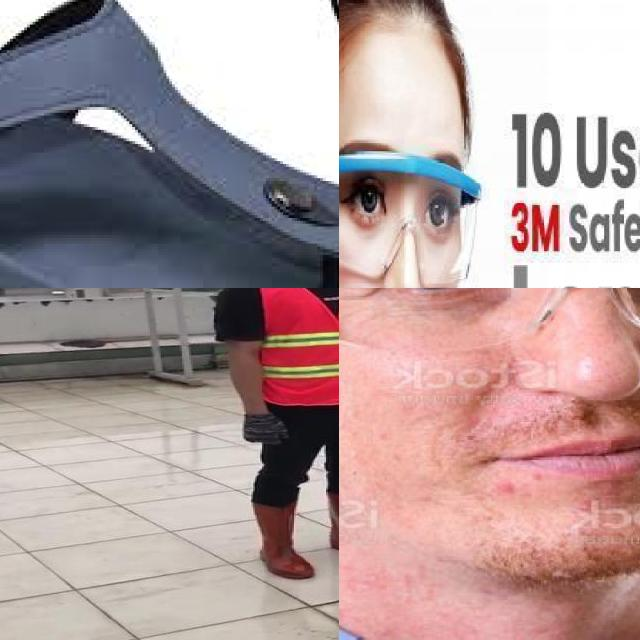Sandals: (0, 0, 339, 288)
boots: (239, 498, 317, 582)
face_nomask: (362, 288, 640, 524), (339, 153, 466, 288)
glasses: (339, 148, 480, 288)
head_nohelmet: (339, 0, 472, 96)
person: (207, 288, 339, 584)
vest: (237, 288, 339, 405)
